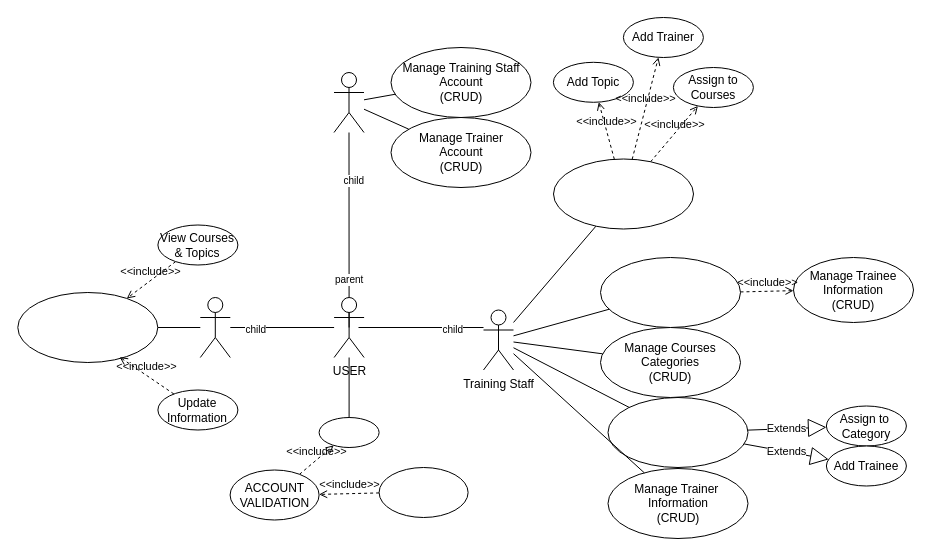
Some shapes in this 931 by 556 pixel diagram are drawn without their labels. The box of each missing label's shape, as (x1, y1, x2, y2) in pixels:
Administrator: (333, 72, 364, 132)
LOGIN: (318, 416, 379, 448)
Manage Courses (CRUD): (607, 396, 748, 468)
Manage Information: (17, 292, 158, 362)
Manage Topics: (552, 158, 694, 229)
Manage Trainee Account (CRUD): (600, 256, 740, 328)
ROLE VALIDATION: (378, 466, 468, 518)
Trainer: (199, 296, 230, 358)
